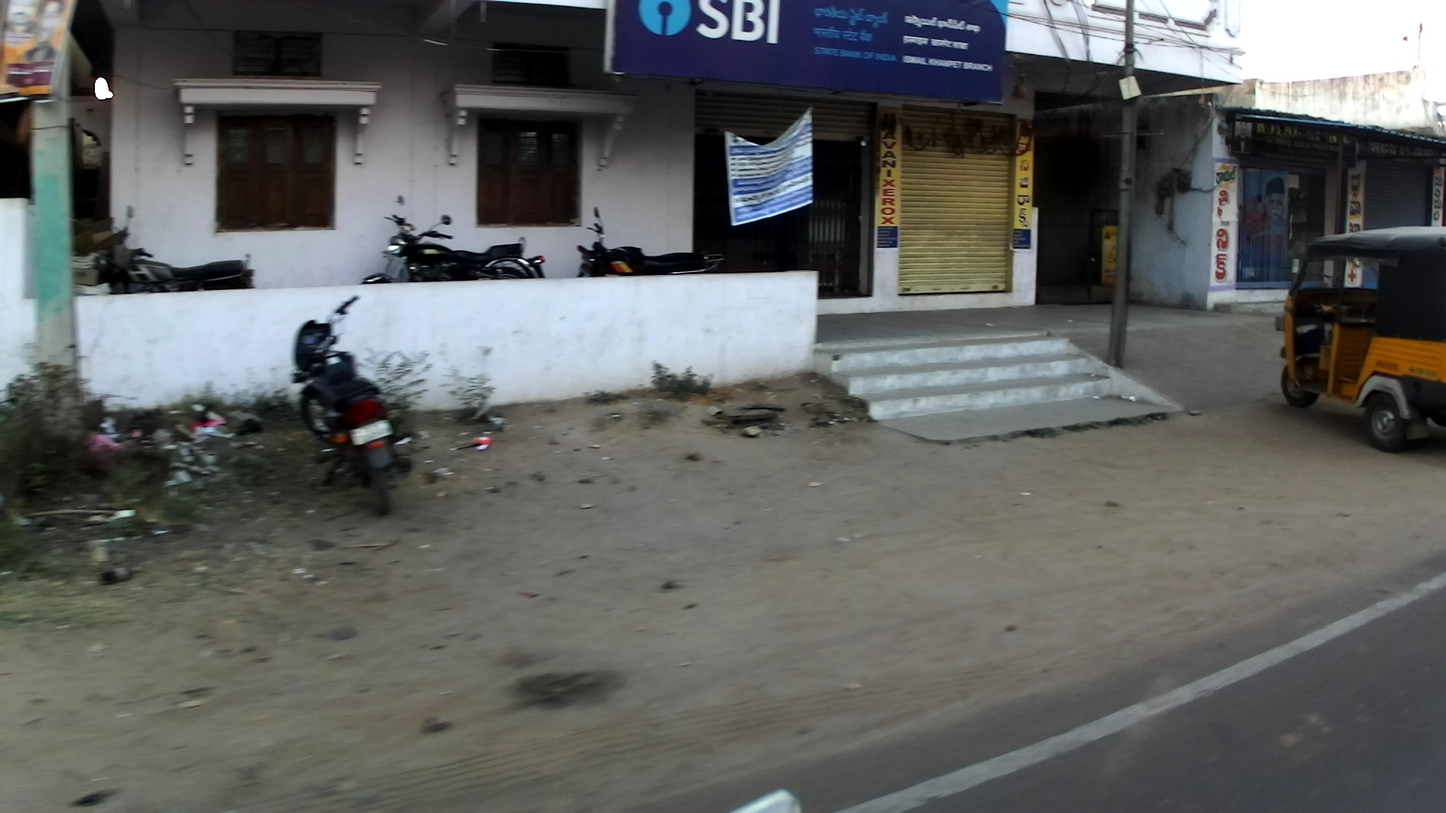autorickshaw: (1274, 226, 1446, 454)
motorcycle: (290, 295, 414, 518), (360, 193, 546, 284), (86, 206, 255, 297), (573, 208, 723, 277)
